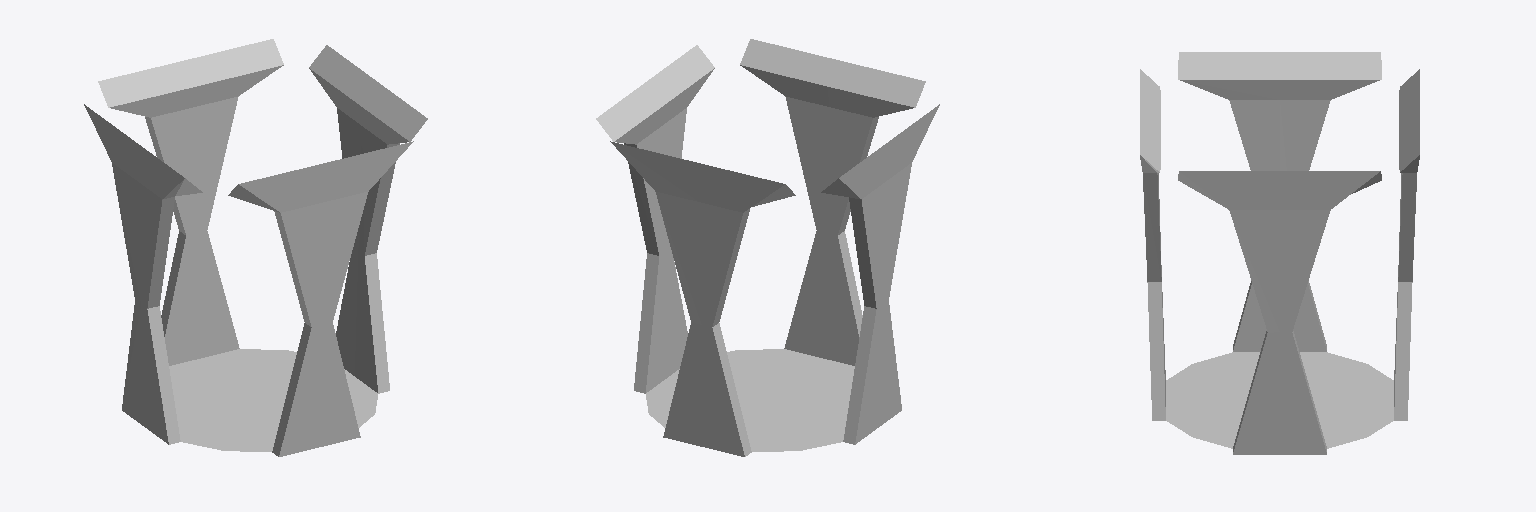
The model's file is commandcenter_test.obj.
3 views of the same model, side by side, from view 1: azimuth 30°, elevation 25°; view 2: azimuth 150°, elevation 25°; view 3: azimuth 270°, elevation 25° (orthographic).
Visible parts, largest first — view 1: Disc; view 2: Disc; view 3: Disc.
Boxes of the visible parts, box(x1,y1,x2,y2) form: Disc: box(84, 39, 427, 456); Disc: box(596, 39, 939, 456); Disc: box(1140, 52, 1419, 454).
Bounding box in the file's own units: 205 × 233 × 205.